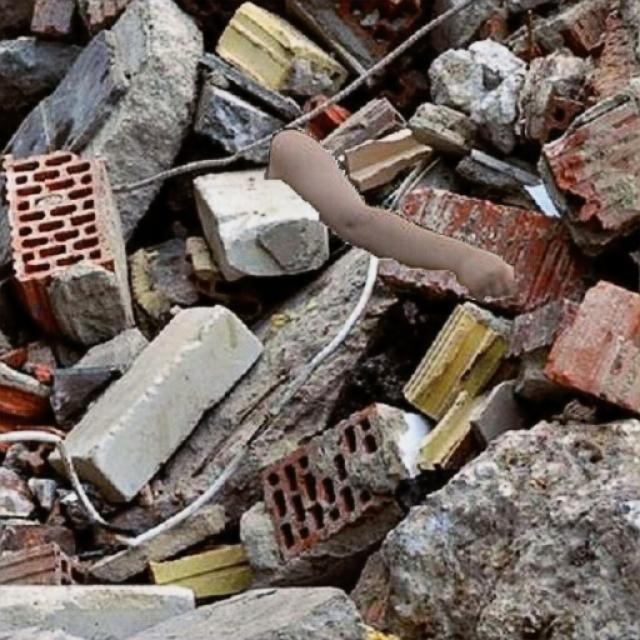Person in Rubble: (264, 127, 512, 300)
